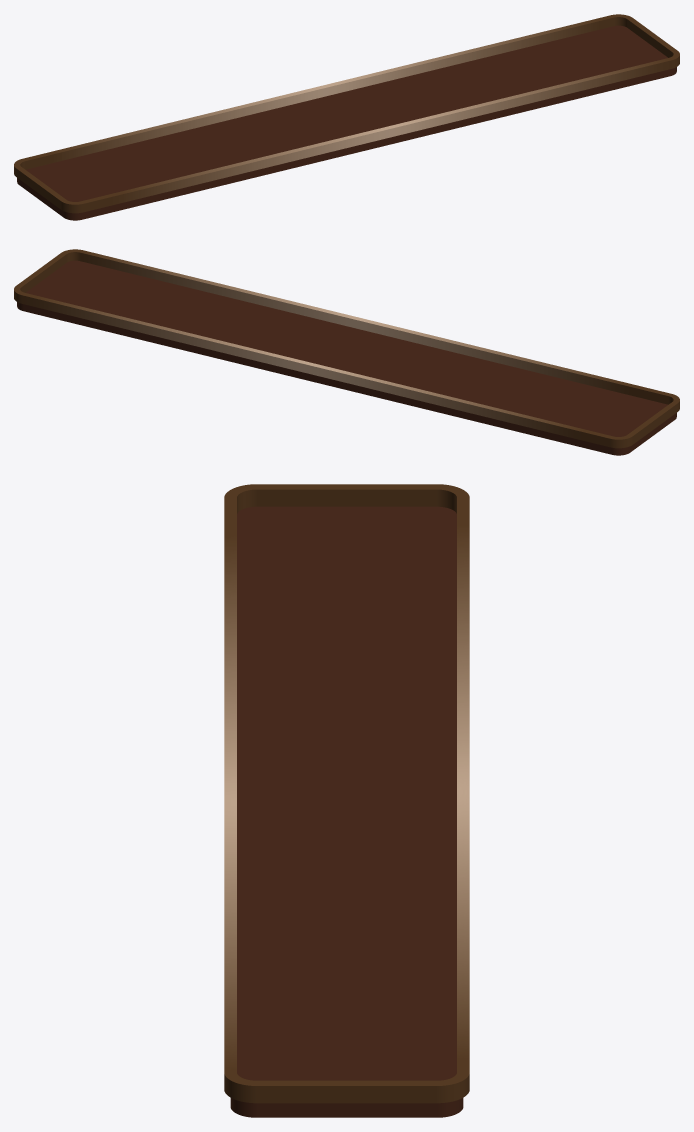
The model's file is Panel.fbx.
The picture shows the model from 3 angles, top to bottom: view 1: azimuth 30°, elevation 25°; view 2: azimuth 150°, elevation 25°; view 3: azimuth 270°, elevation 25°; orthographic projection. The views are drawn at different scales.
Visible parts, largest first — view 1: Rectangle, Rectangle - Stroke; view 2: Rectangle, Rectangle - Stroke; view 3: Rectangle, Rectangle - Stroke.
Boxes of the visible parts, <box> form: Rectangle: <box>17,25,676,220</box>; Rectangle - Stroke: <box>14,14,679,213</box>; Rectangle: <box>17,260,676,455</box>; Rectangle - Stroke: <box>14,249,679,448</box>; Rectangle: <box>230,506,463,1117</box>; Rectangle - Stroke: <box>224,484,469,1103</box>.
Size of the model in its own units: 338 by 58.2 by 9.
